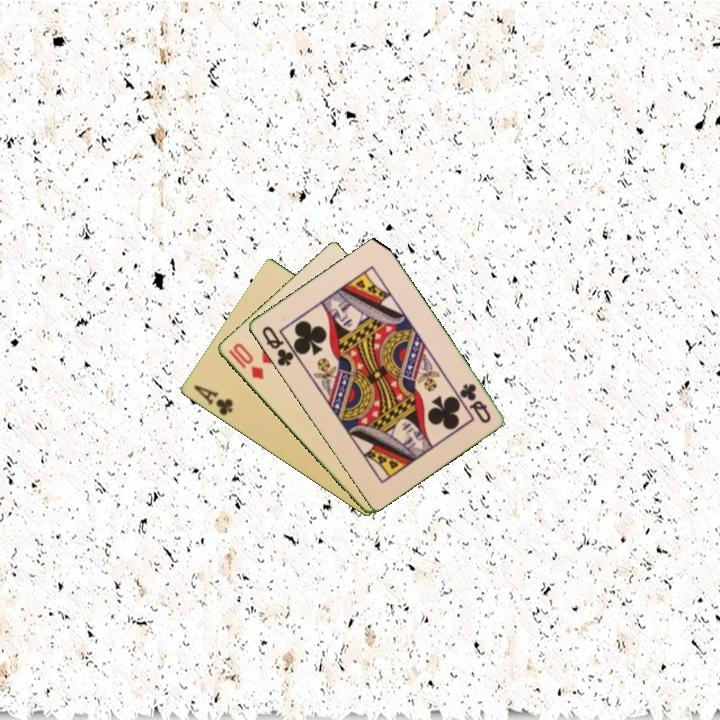10d: (224, 339, 267, 383)
Ac: (190, 381, 236, 419)
Qc: (258, 322, 296, 369), (456, 379, 494, 426)
